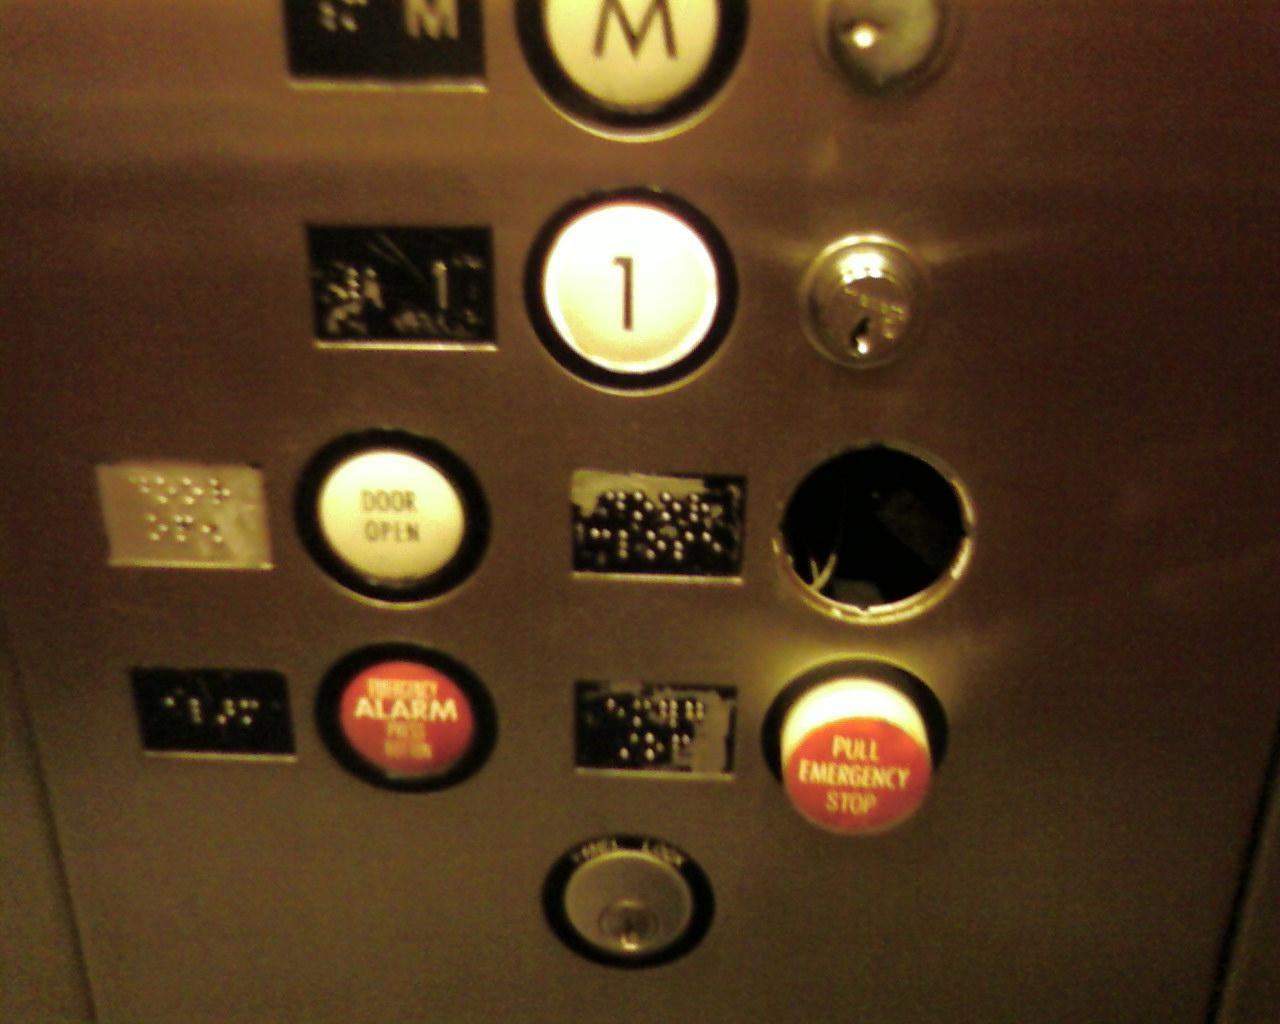1: (516, 186, 745, 398)
empty: (769, 437, 971, 629)
keyhole: (538, 827, 720, 970), (798, 231, 941, 376)
text_alarm: (312, 647, 501, 792)
text_open: (294, 430, 492, 604)
text_stop: (759, 653, 951, 841)
